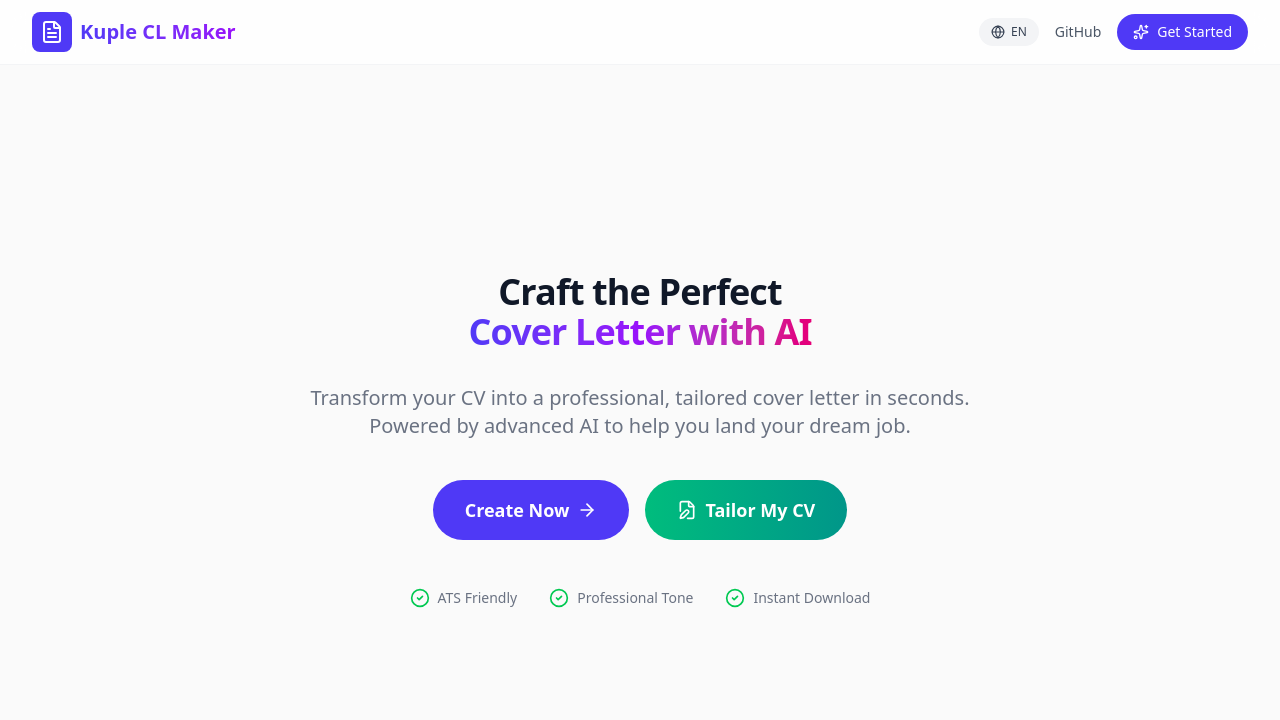
Test: App - Integration Tests › Navigation flow › should navigate from Hero to Form when CTA is clicked
The image size is (1280, 720).
Click the button "Create Now" at coordinates (531, 510), box [433,480,630,540]
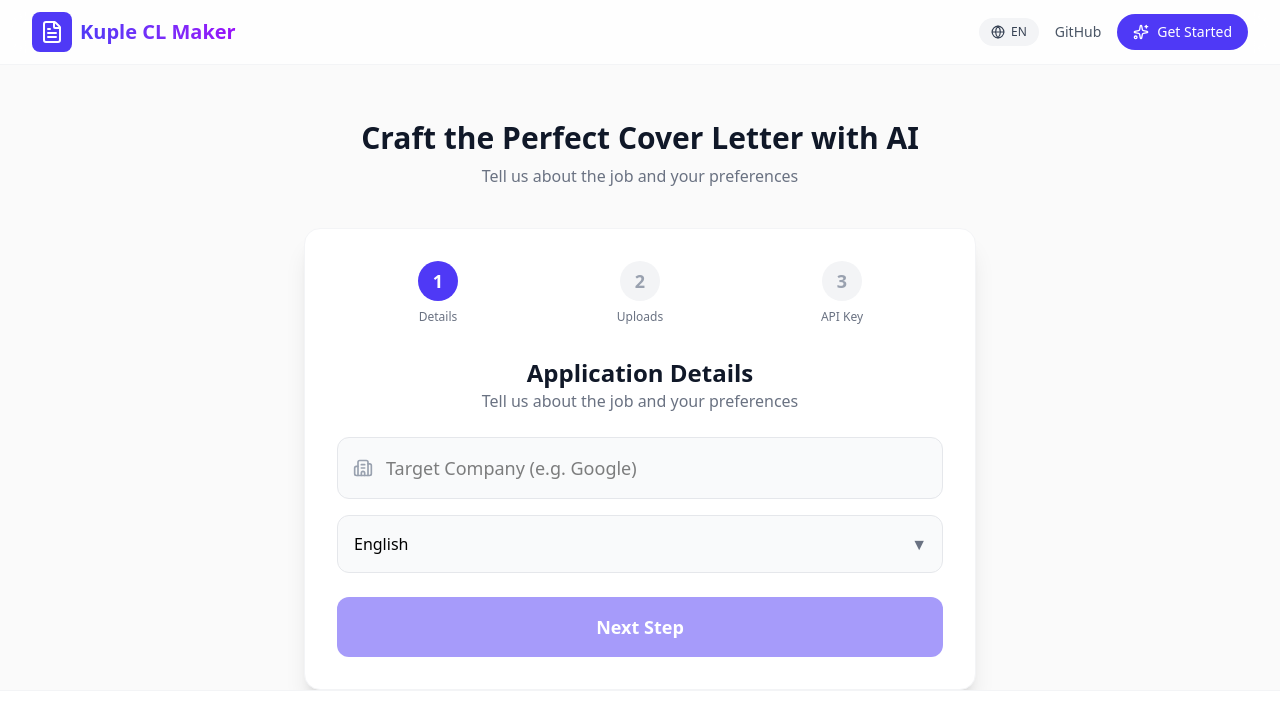
Now the heading "Application Details" is shown, box [527,356,753,389]
